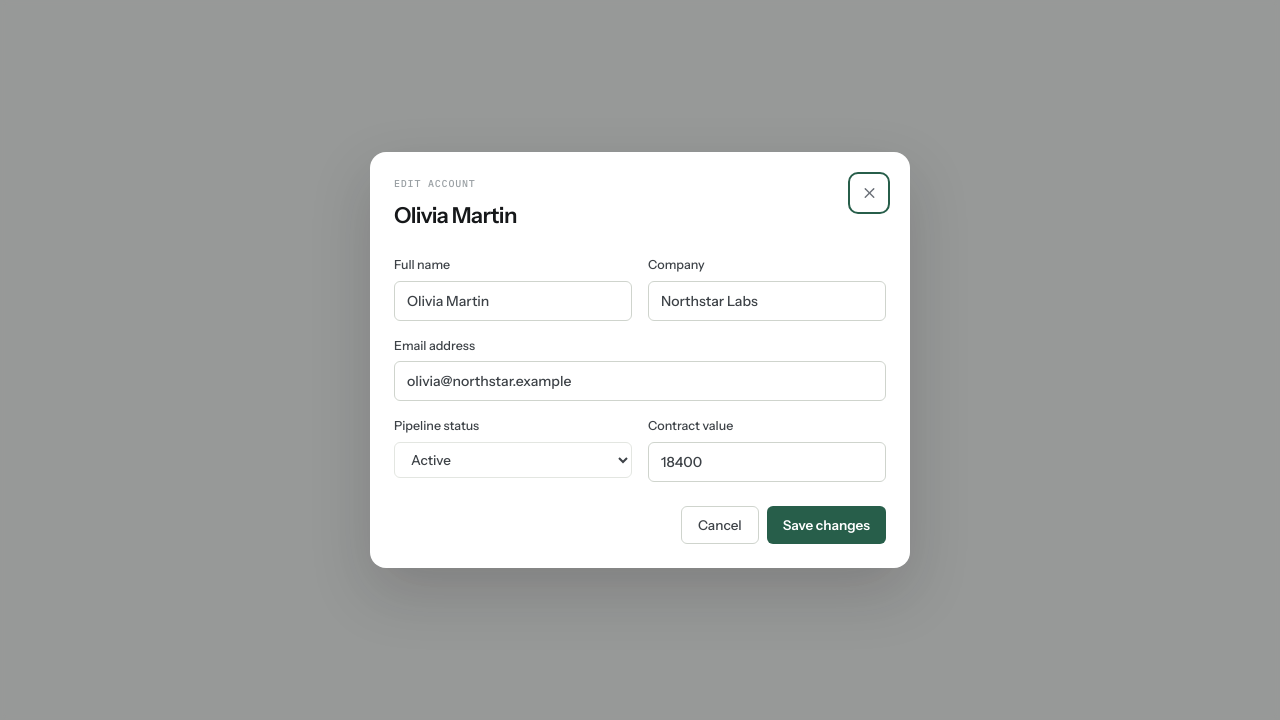
CustomerDialog › keeps the dialog open when the save fails
Replace the text in the field labelled "Company" with "Anything" at (767, 301), box x1=648 y1=281 x2=886 y2=321
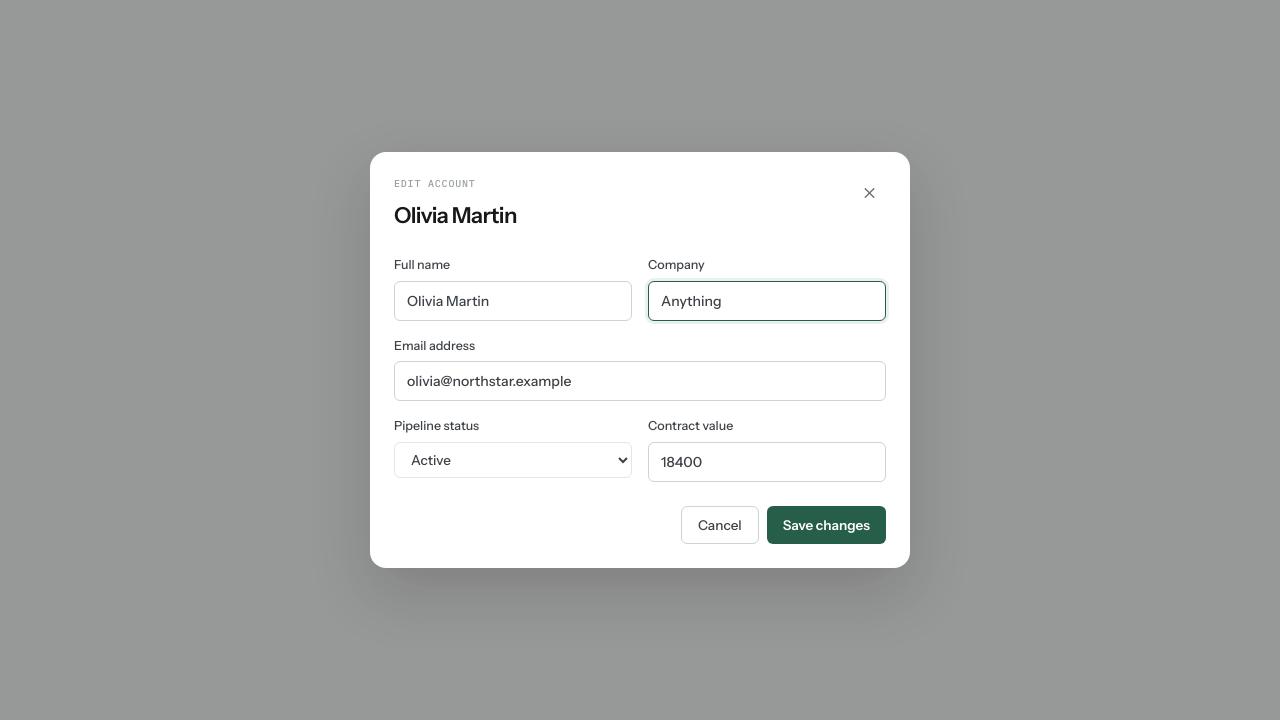
Click the button "Save changes" at (826, 525), box x1=767 y1=506 x2=886 y2=544
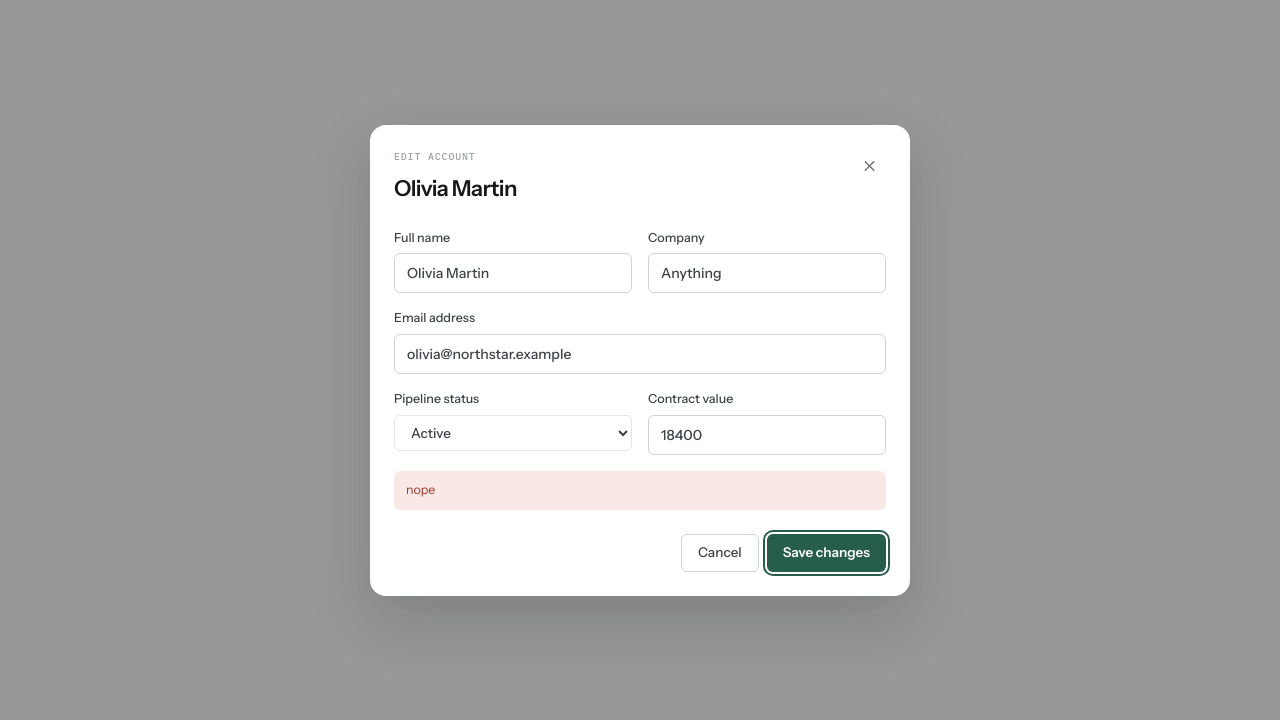
Check: the text "nope" is shown, box x1=394 y1=471 x2=886 y2=510
